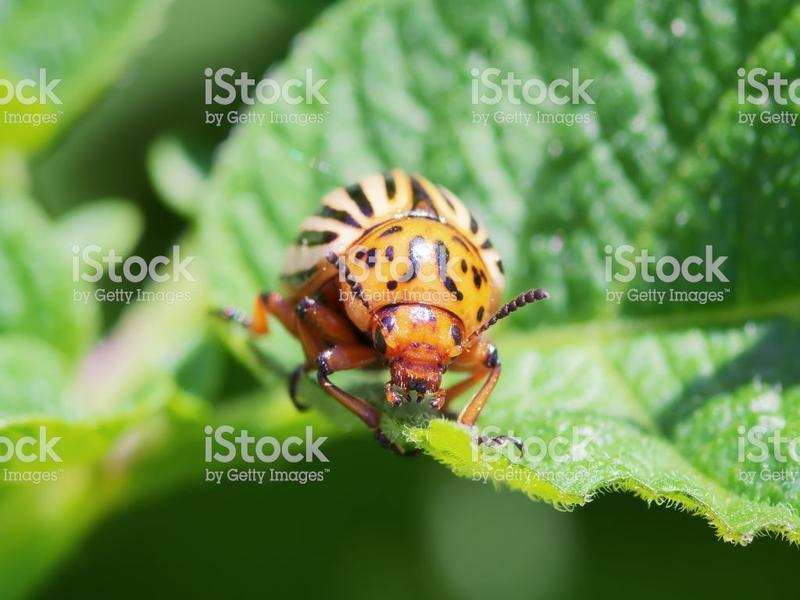hrosc: (271, 167, 546, 420)
